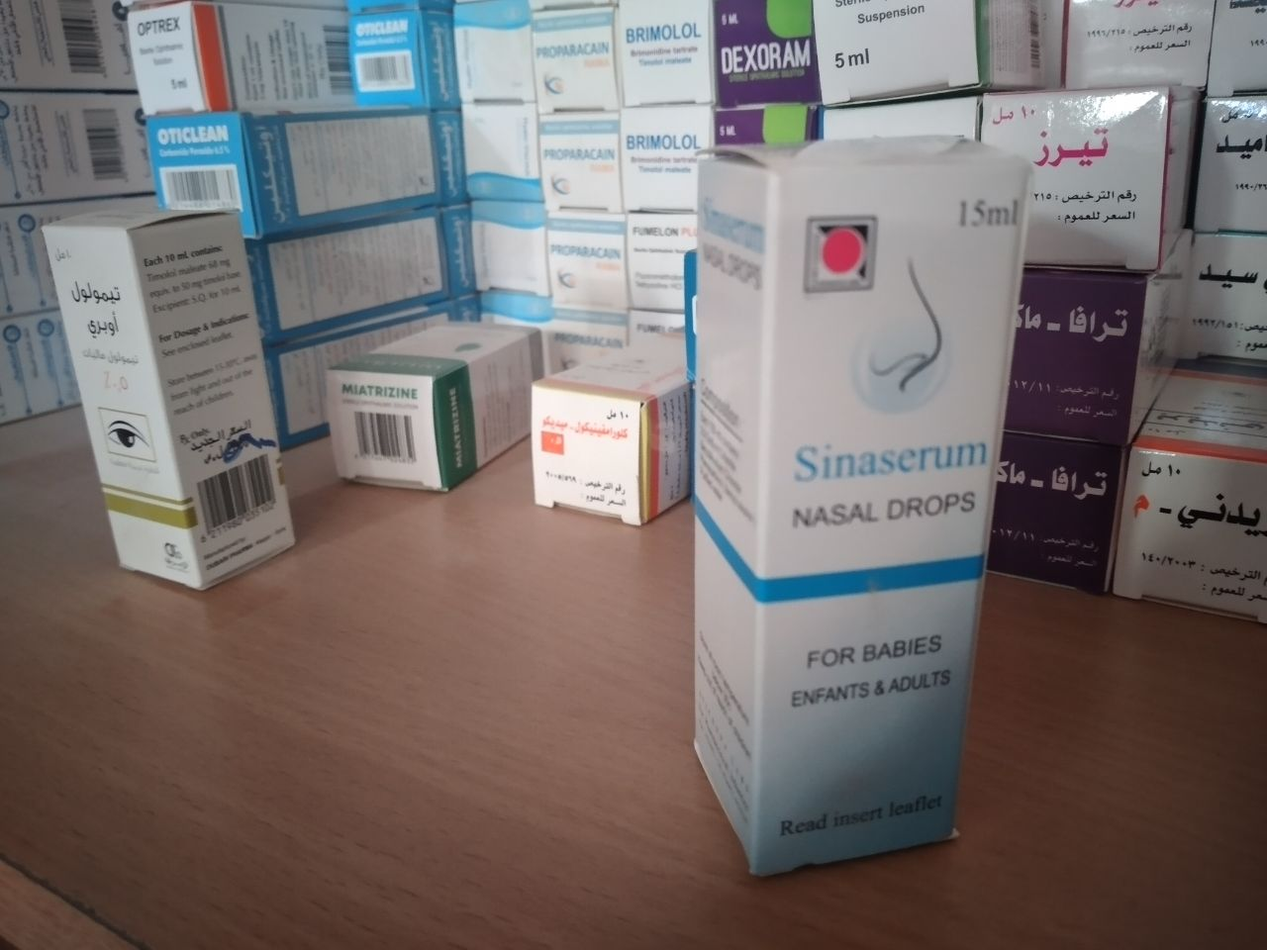Medicine: (671, 141, 1039, 881), (32, 203, 304, 599), (324, 307, 525, 490), (151, 106, 473, 205), (1109, 430, 1267, 614), (260, 215, 478, 341), (121, 5, 354, 111), (530, 366, 673, 524), (1166, 228, 1267, 386)
